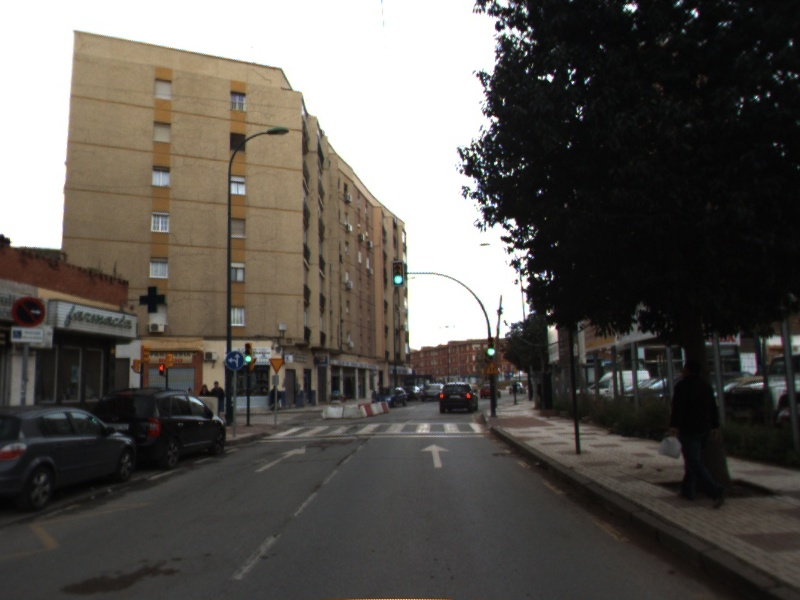STRAIGHT: (252, 443, 307, 474), (417, 442, 452, 470)
